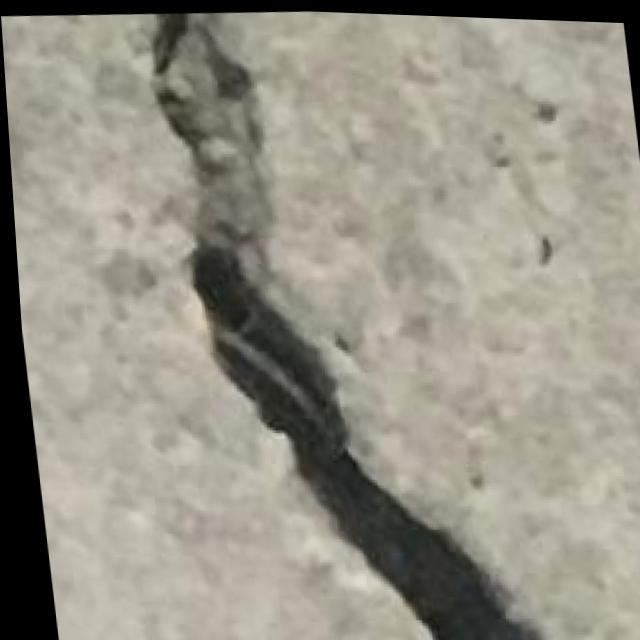Crack: (127, 4, 541, 640)
